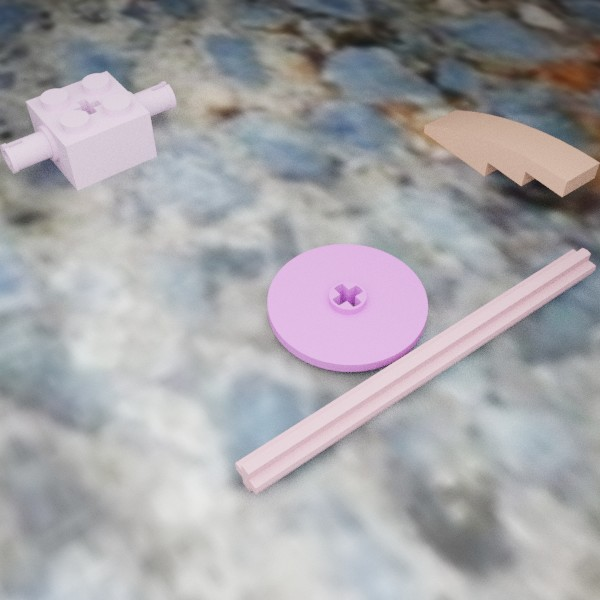lego: (235, 247, 595, 494), (0, 71, 176, 190), (267, 244, 427, 371), (423, 110, 599, 197)
